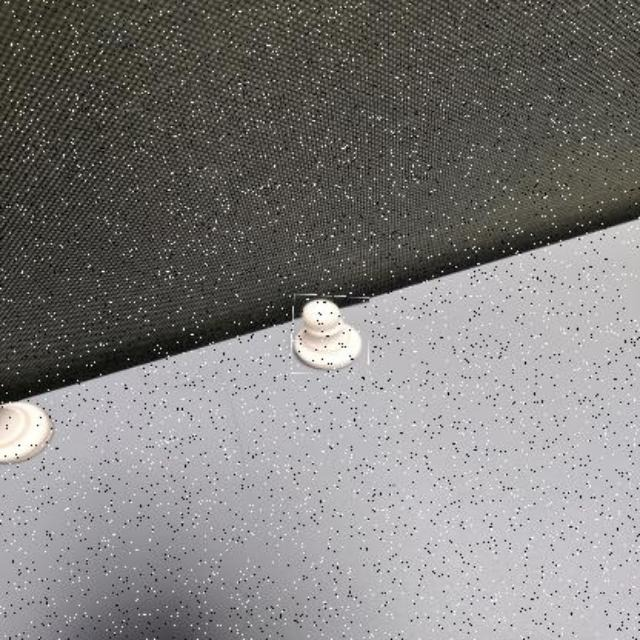white-pawn: (292, 295, 370, 375)
